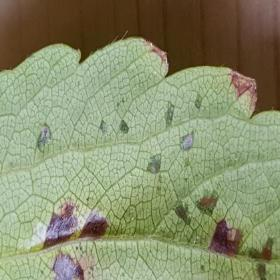Angular Leafspot: (14, 38, 279, 279)
